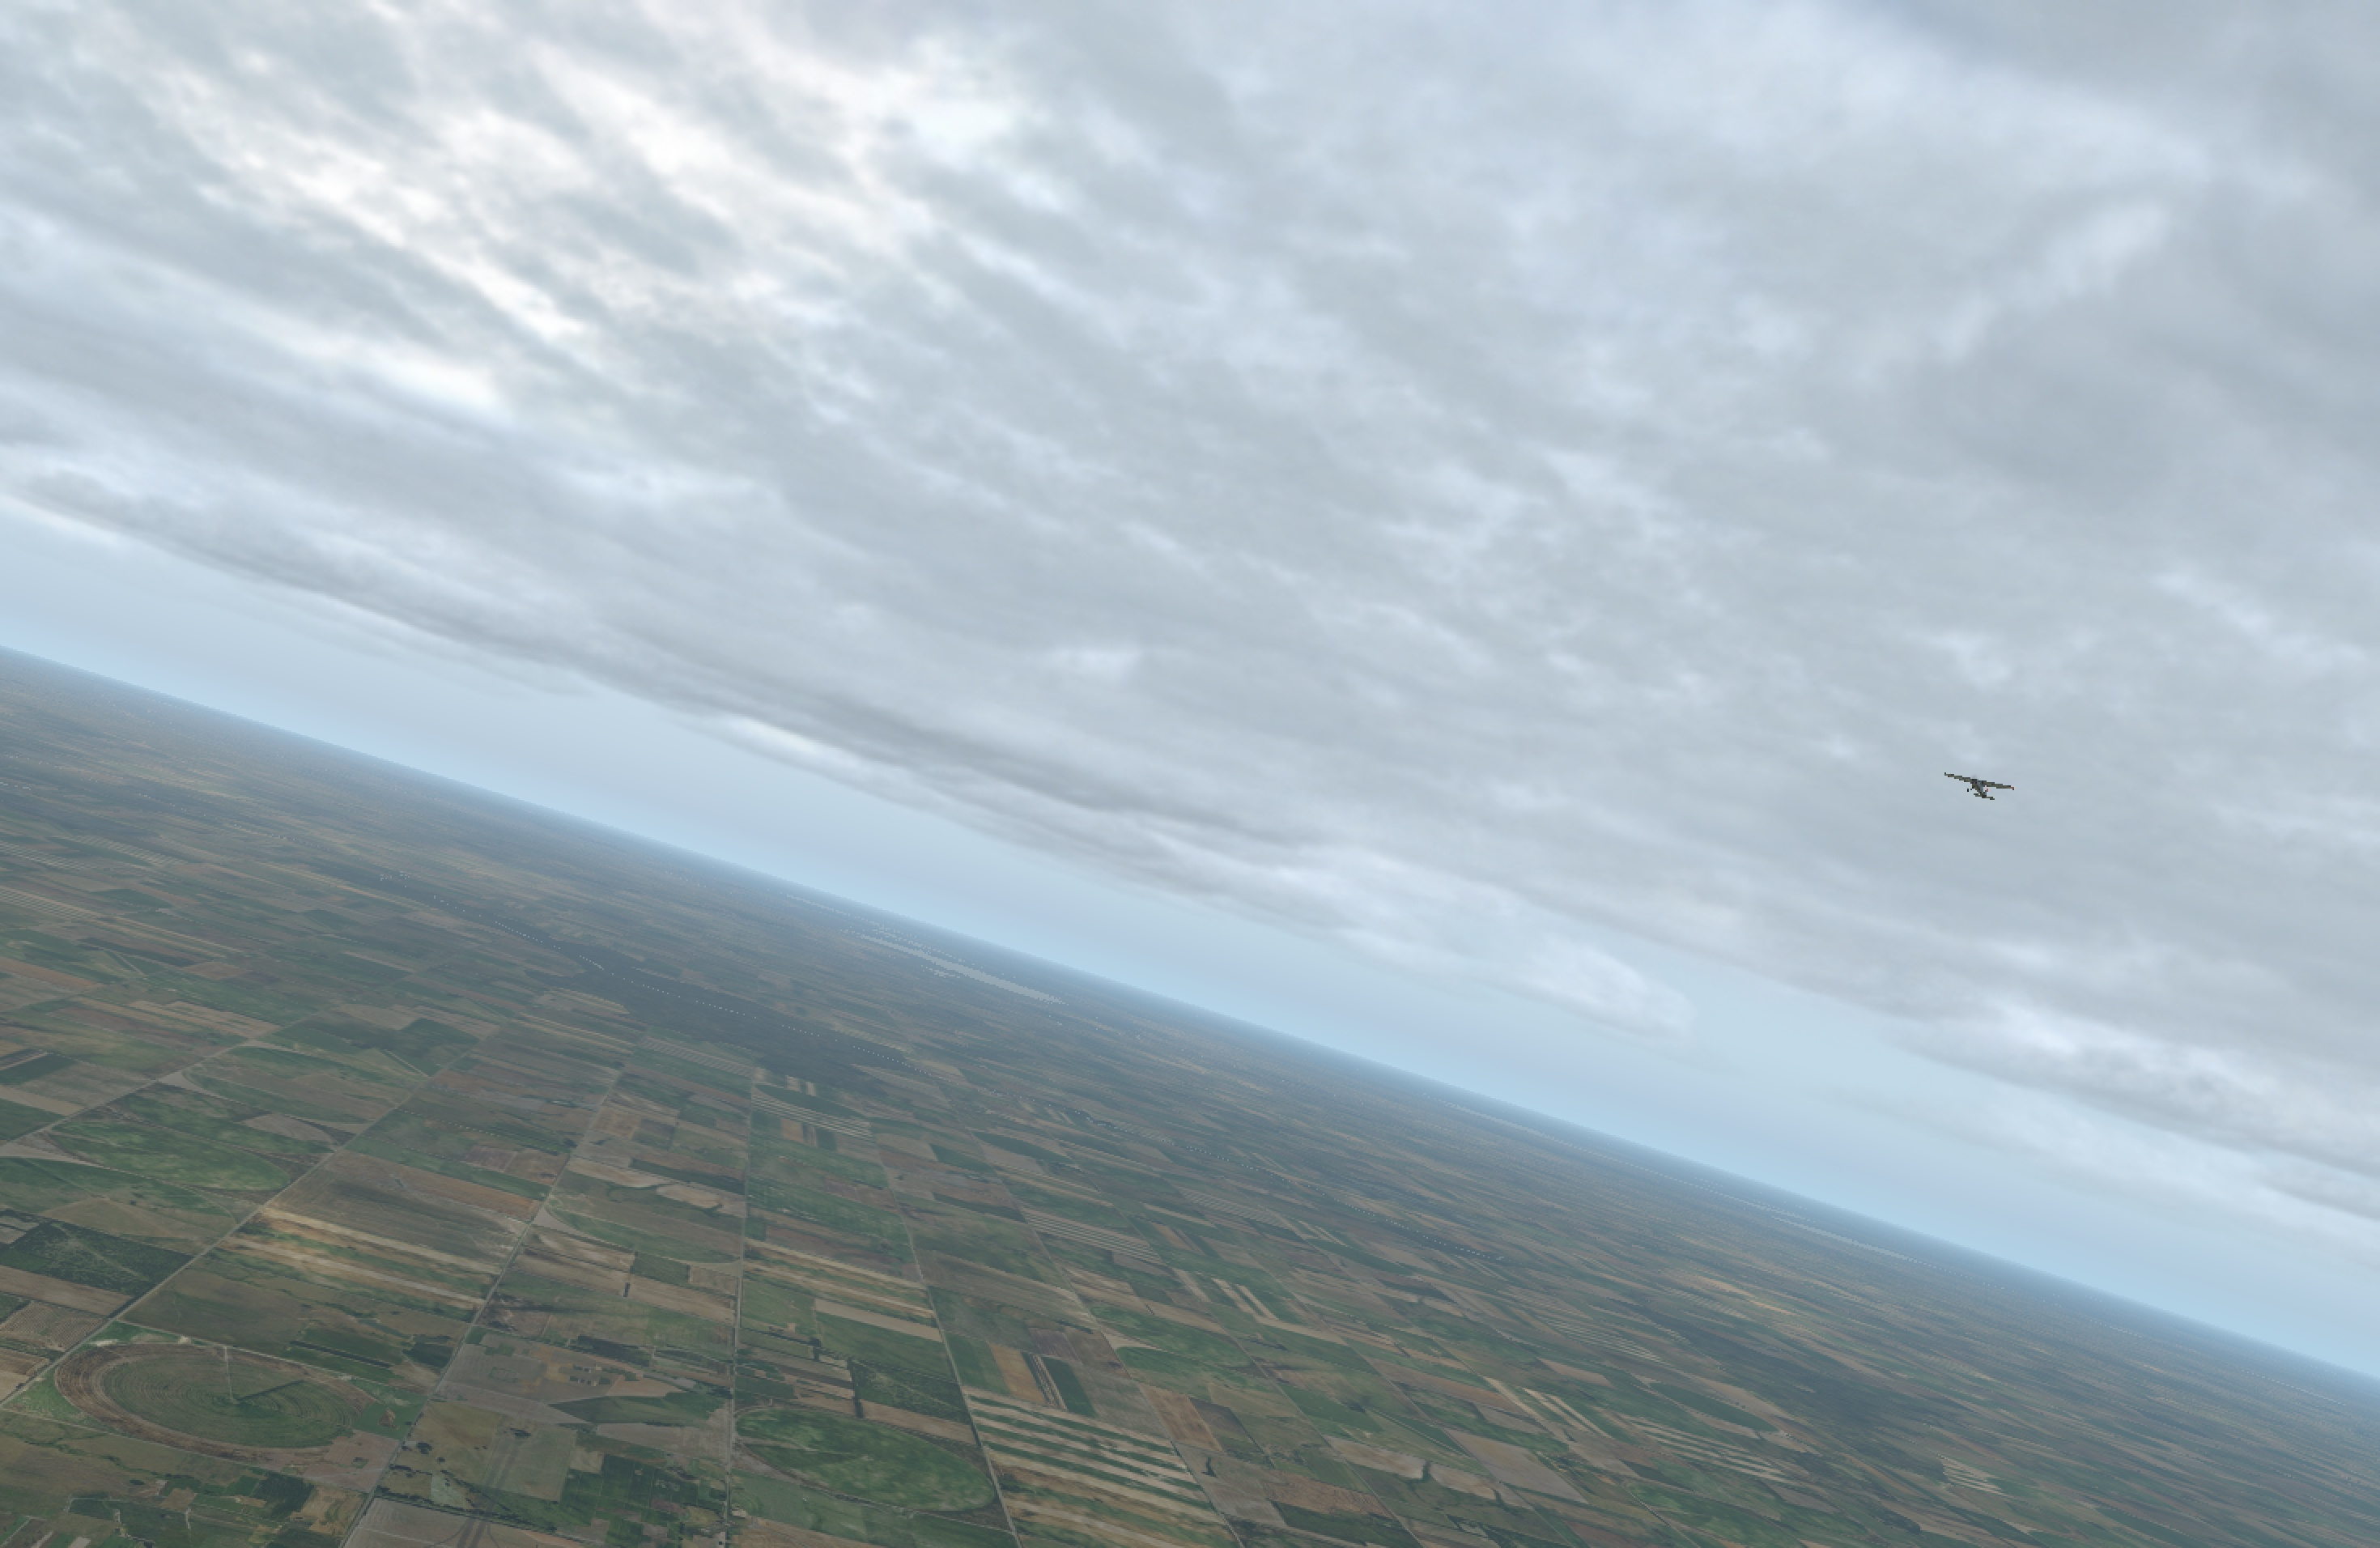aircraft: (1955, 776, 2002, 793)
